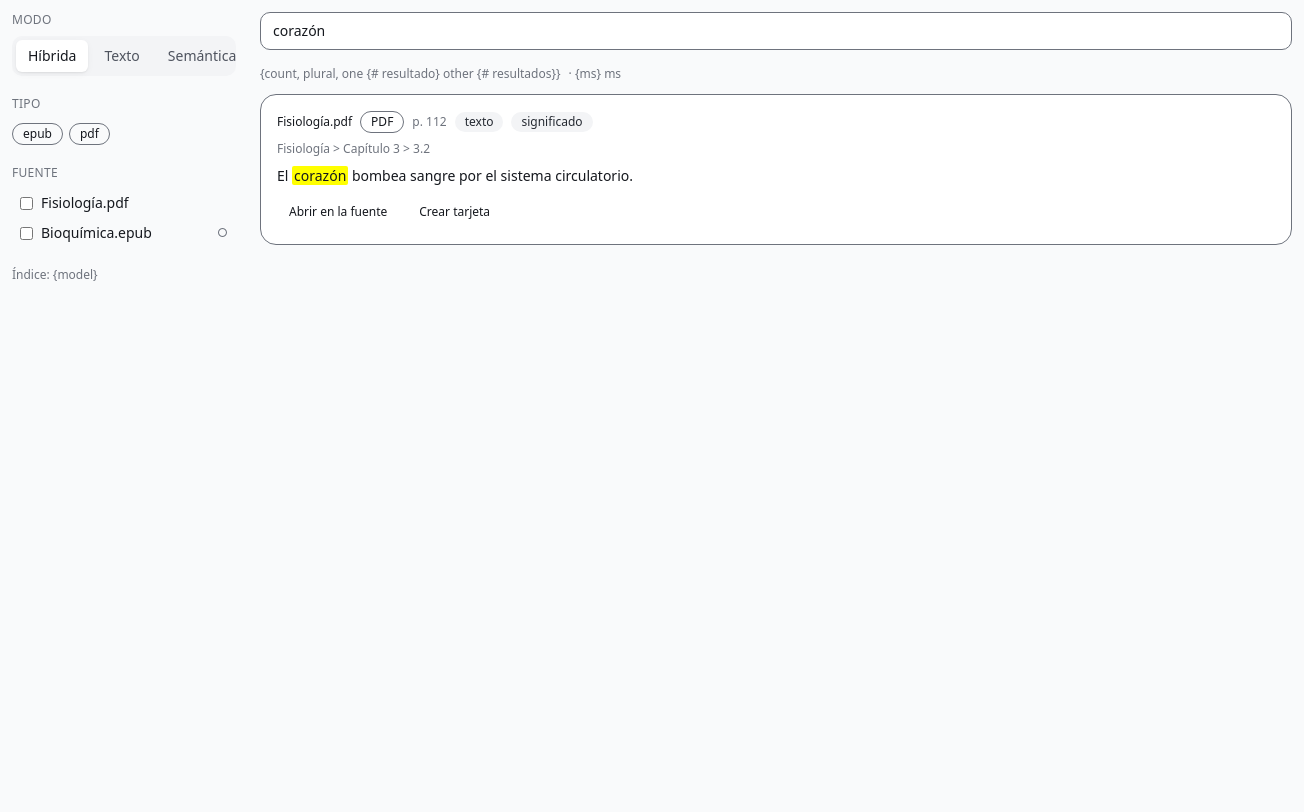
Test: the search screen › says the reader is not built yet rather than leaving a dead button
What coordinates should you click on to do the following:
click the button "Abrir en la fuente"
I would click on:
 (338, 212)
Its box is [277, 196, 399, 228].
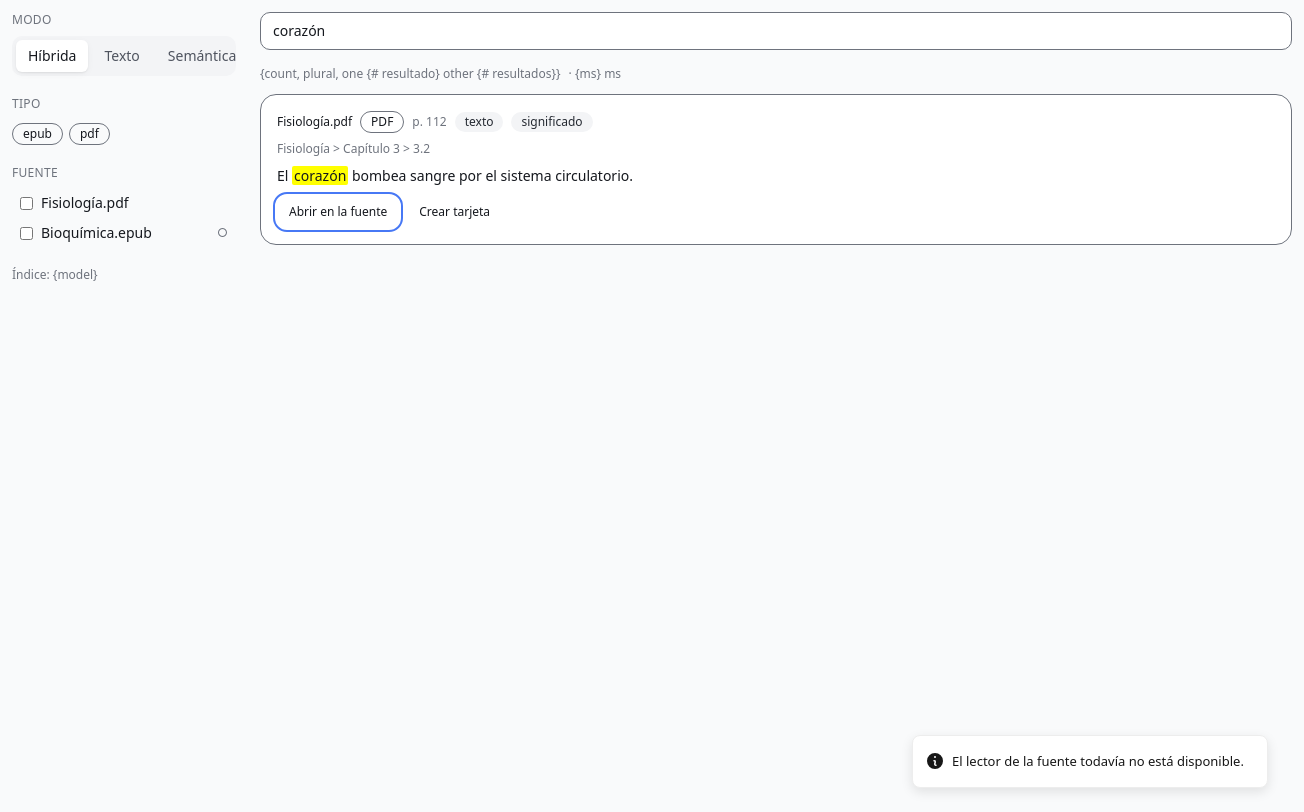
Result: the text "El lector de la fuente todavía no está disponible." is shown at [952, 752, 1244, 771]
